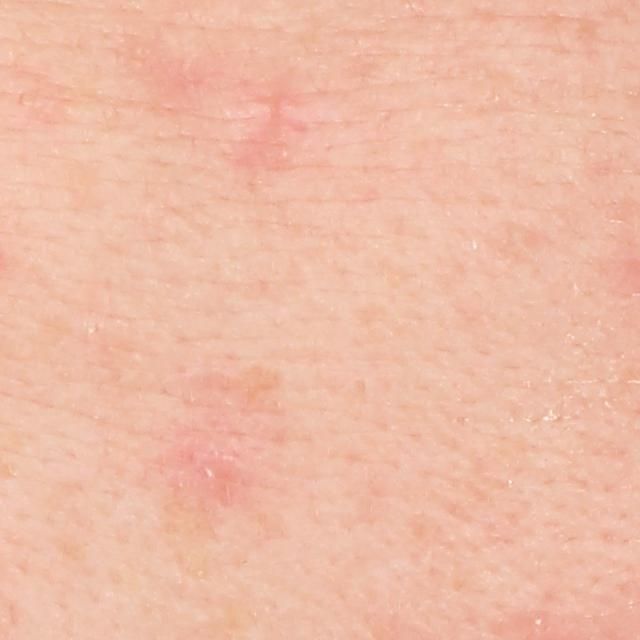comedo: (532, 614, 549, 630)
